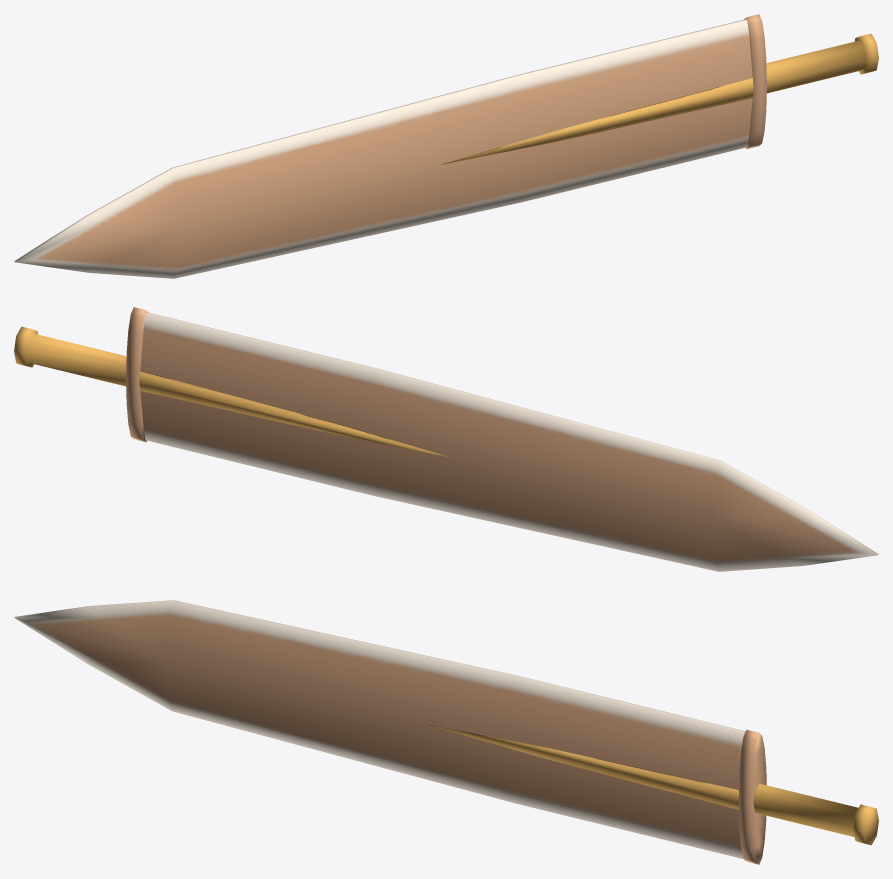
Rendered from Emiya_big_blade_4.fbx.
3 views of the same model, one above another, from view 1: azimuth 30°, elevation 25°; view 2: azimuth 150°, elevation 25°; view 3: azimuth 330°, elevation 25° (orthographic).
Visible parts, largest first — view 1: Emiya_big_blade_4; view 2: Emiya_big_blade_4; view 3: Emiya_big_blade_4.
Part boxes in pixels (<box>): Emiya_big_blade_4: <box>14,14,878,278</box>; Emiya_big_blade_4: <box>14,307,878,571</box>; Emiya_big_blade_4: <box>14,600,878,864</box>.
Size of the model in its own units: 331 by 48.83 by 10.26.
Materials: 1 (1 with a texture image).
